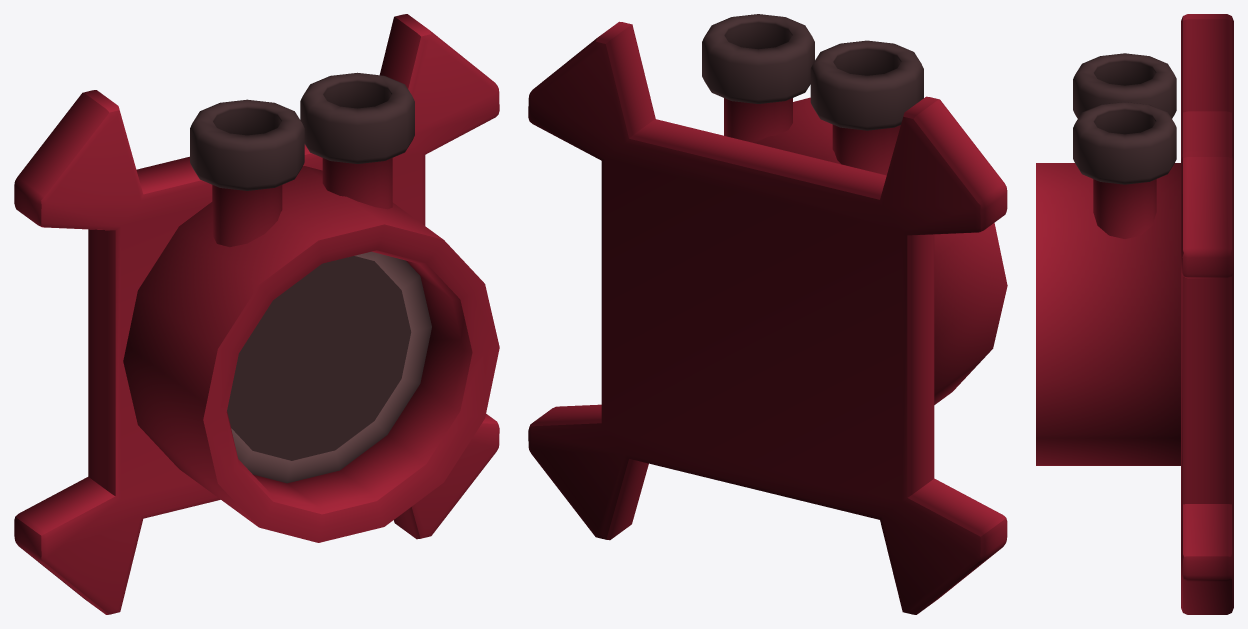
Rendered from Procesor_Cooling_lvl_08_V03.fbx.
3 renders of one model, left to right at view 1: azimuth 30°, elevation 25°; view 2: azimuth 150°, elevation 25°; view 3: azimuth 270°, elevation 25°, orthographic. The views are drawn at different scales.
Parts seen in each view (by area): view 1: Procesor_Cooling_lvl_08; view 2: Procesor_Cooling_lvl_08; view 3: Procesor_Cooling_lvl_08.
Boxes of the visible parts, bbox=[...] form: Procesor_Cooling_lvl_08: bbox=[14, 14, 499, 614]; Procesor_Cooling_lvl_08: bbox=[528, 14, 1007, 614]; Procesor_Cooling_lvl_08: bbox=[1036, 14, 1233, 614].
Bounding box in the file's own units: 44.66 × 46.75 × 18.29.
